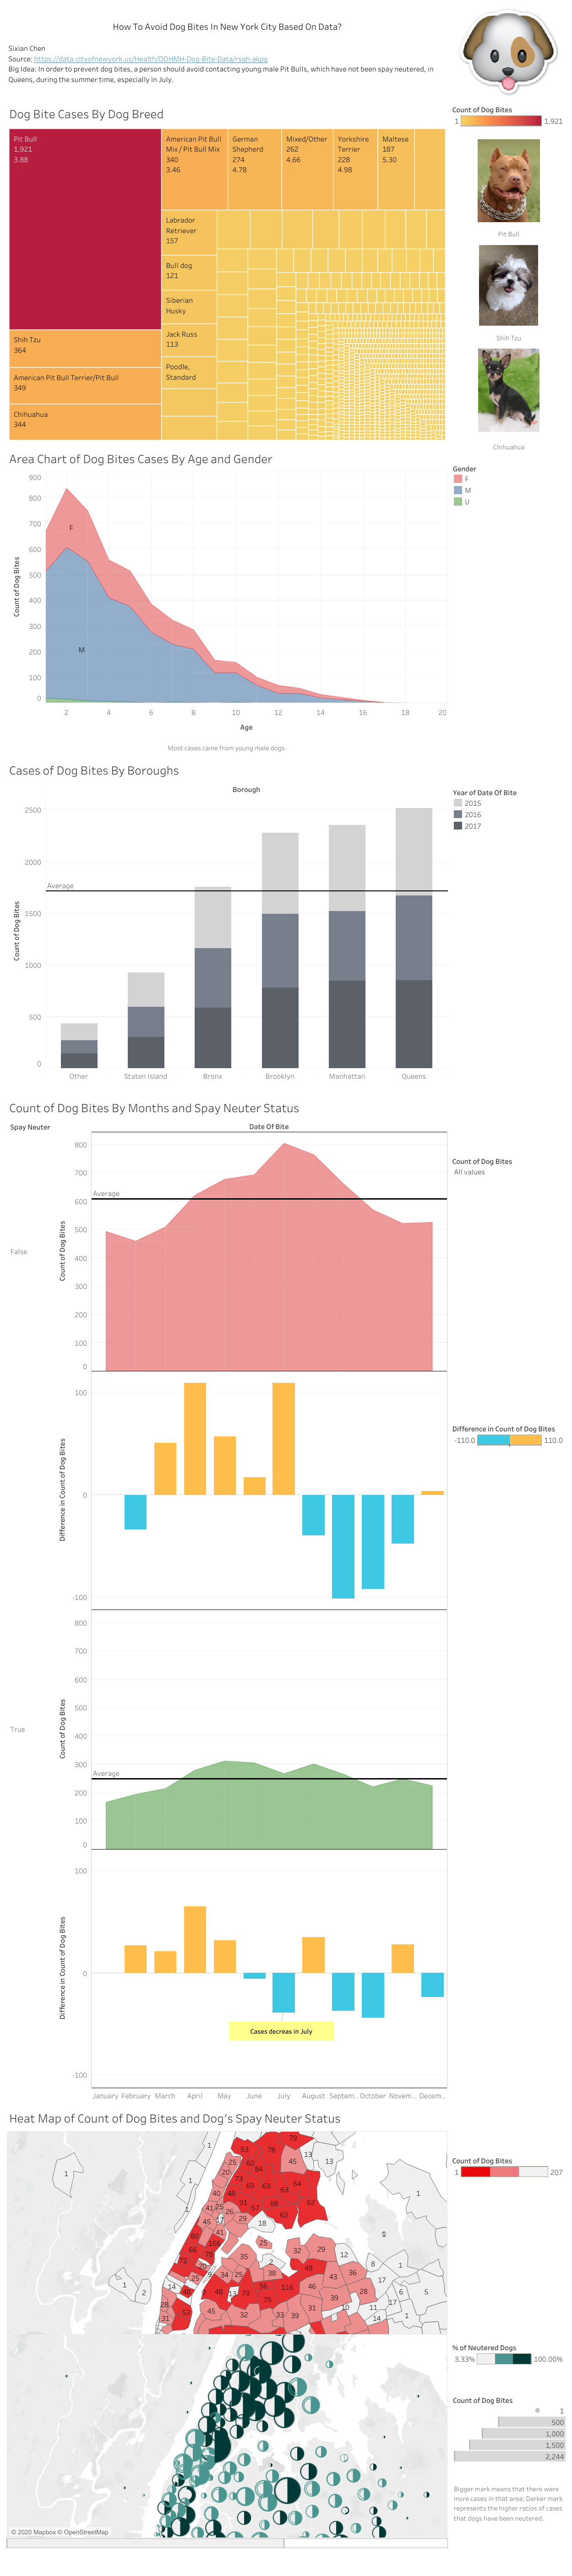

This screenshot's page, from the dashboard's own definition file:
{"tool":"tableau","page":{"name":"Dashboard 1","canvas":[1000,4500],"ordinal":0},"visuals":[{"type":"worksheet","box":[0,0,1000,4500]},{"type":"worksheet","param":"horz","box":[8,8,984,4484]},{"type":"worksheet","box":[8,8,778,4484]},{"type":"worksheet","box":[8,8,778,166]},{"type":"worksheet","box":[786,8,206,4484]},{"type":"worksheet","param":"horz","box":[786,8,206,166]},{"type":"worksheet","param":"Image/dog emoji.png","box":[786,8,206,166]},{"type":"worksheet","title":"by breed","mark":"Automatic","box":[8,174,778,603.1]},{"type":"worksheet","box":[786,174,206,4318]},{"type":"worksheet","param":"vert","box":[786,174,206,584.2]},{"type":"worksheet","title":"by breed","mark":"Automatic","param":"[federated.1ch85jl1eidxpz16zwsoy1rv2js4].[usr:Calculation_546624458479800320:qk]","box":[786,174,206,65]},{"type":"worksheet","param":"Image/pitbull.jpg","box":[786,239,206,153]},{"type":"worksheet","box":[786,392,206,32]},{"type":"worksheet","param":"Image/a29419d2792cf3c6a81c488cda9972aa.jpg","box":[786,424,206,149]},{"type":"worksheet","box":[786,573,206,32]},{"type":"worksheet","param":"Image/ChihuahuaViansBigMacAttackMac33.jpg","box":[786,605,206,153.2]},{"type":"worksheet","box":[786,758.2,206,44.7]},{"type":"worksheet","title":"by age gender","mark":"Area","rows":["Calculation_546624458479800320"],"cols":["Age"],"box":[8,777.1,778,511.9]},{"type":"worksheet","box":[786,802.9,206,3689.1]},{"type":"worksheet","param":"vert","box":[786,802.9,206,566.1]},{"type":"worksheet","title":"by age gender","mark":"Area","rows":["Calculation_546624458479800320"],"cols":["Age"],"param":"[federated.1ch85jl1eidxpz16zwsoy1rv2js4].[none:Gender:nk]","box":[786,802.9,206,146]},{"type":"worksheet","box":[786,948.9,206,196]},{"type":"worksheet","box":[8,1289,778,32]},{"type":"worksheet","title":"Case In Borough","mark":"Automatic","rows":["Calculation_546624458479800320"],"cols":["Borough"],"box":[8,1321,778,589]},{"type":"worksheet","box":[786,1369,206,3123]},{"type":"worksheet","param":"vert","box":[786,1369,206,644.6]},{"type":"worksheet","title":"Case In Borough","mark":"Automatic","rows":["Calculation_546624458479800320"],"cols":["Borough"],"param":"[federated.1ch85jl1eidxpz16zwsoy1rv2js4].[yr:DateOfBite:ok]","box":[786,1369,206,203]},{"type":"worksheet","box":[786,1572,206,321]},{"type":"worksheet","title":"Bites by months and SN","mark":"Bar","rows":["SpayNeuter","Calculation_546624458479800320","Calculation_546624458479800320"],"cols":["DateOfBite"],"box":[8,1910,778,1765]},{"type":"worksheet","title":"heat map (2)","mark":"Automatic","param":"[federated.1ch85jl1eidxpz16zwsoy1rv2js4].[usr:Calculation_546624458479800320:qk]","box":[786,2013.6,206,121.6]},{"type":"worksheet","box":[786,2135.2,206,343.1]},{"type":"worksheet","box":[786,2478.2,206,2013.8]},{"type":"worksheet","param":"vert","box":[786,2478.2,206,1277.8]},{"type":"worksheet","title":"Bites by months and SN","mark":"Bar","rows":["SpayNeuter","Calculation_546624458479800320","Calculation_546624458479800320"],"cols":["DateOfBite"],"param":"[federated.1ch85jl1eidxpz16zwsoy1rv2js4].[diff:usr:Calculation_54662445847980032","box":[786,2478.2,206,116]},{"type":"worksheet","box":[786,2594.2,206,1161.8]},{"type":"worksheet","title":"heat map (2)","mark":"Automatic","box":[8,3675,778,817]},{"type":"worksheet","param":"vert","box":[786,3756,206,736]},{"type":"worksheet","title":"heat map (2)","mark":"Automatic","param":"[federated.1ch85jl1eidxpz16zwsoy1rv2js4].[rank:usr:Calculation_54662445847980032","box":[786,3756,206,241]},{"type":"worksheet","box":[786,3997,206,86]},{"type":"worksheet","title":"heat map (2)","mark":"Automatic","param":"[federated.1ch85jl1eidxpz16zwsoy1rv2js4].[pcto:usr:Calculation_54662445847980032","box":[786,4083,206,94]},{"type":"worksheet","title":"heat map (2)","mark":"Automatic","param":"[federated.1ch85jl1eidxpz16zwsoy1rv2js4].[usr:Calculation_546624458479800320:qk]","box":[786,4177,206,157]},{"type":"worksheet","box":[786,4334,206,98]},{"type":"worksheet","box":[786,4432.1,206,59.9]}]}

Visuals, with their boxes in screenshot pixels (x1, y1, x2, y2), scaled from the page's 1000x4500 canvas onto the 572x2576 screenshot:
worksheet: left=0, top=0, right=572, bottom=2576
worksheet: left=5, top=5, right=567, bottom=2571
worksheet: left=5, top=5, right=450, bottom=2571
worksheet: left=5, top=5, right=450, bottom=99
worksheet: left=450, top=5, right=567, bottom=2571
worksheet: left=450, top=5, right=567, bottom=99
worksheet: left=450, top=5, right=567, bottom=99
"by breed" worksheet: left=5, top=99, right=450, bottom=445
worksheet: left=450, top=99, right=567, bottom=2571
worksheet: left=450, top=99, right=567, bottom=434
"by breed" worksheet: left=450, top=99, right=567, bottom=137
worksheet: left=450, top=137, right=567, bottom=224
worksheet: left=450, top=224, right=567, bottom=243
worksheet: left=450, top=243, right=567, bottom=328
worksheet: left=450, top=328, right=567, bottom=346
worksheet: left=450, top=346, right=567, bottom=434
worksheet: left=450, top=434, right=567, bottom=459
"by age gender" worksheet (Area marks): left=5, top=445, right=450, bottom=738
worksheet: left=450, top=459, right=567, bottom=2571
worksheet: left=450, top=459, right=567, bottom=784
"by age gender" worksheet (Area marks): left=450, top=459, right=567, bottom=543
worksheet: left=450, top=543, right=567, bottom=655
worksheet: left=5, top=738, right=450, bottom=756
"Case In Borough" worksheet: left=5, top=756, right=450, bottom=1093
worksheet: left=450, top=784, right=567, bottom=2571
worksheet: left=450, top=784, right=567, bottom=1153
"Case In Borough" worksheet: left=450, top=784, right=567, bottom=900
worksheet: left=450, top=900, right=567, bottom=1084
"Bites by months and SN" worksheet (Bar marks): left=5, top=1093, right=450, bottom=2104
"heat map (2)" worksheet: left=450, top=1153, right=567, bottom=1223
worksheet: left=450, top=1223, right=567, bottom=1419
worksheet: left=450, top=1419, right=567, bottom=2571
worksheet: left=450, top=1419, right=567, bottom=2150
"Bites by months and SN" worksheet (Bar marks): left=450, top=1419, right=567, bottom=1485
worksheet: left=450, top=1485, right=567, bottom=2150
"heat map (2)" worksheet: left=5, top=2104, right=450, bottom=2571
worksheet: left=450, top=2150, right=567, bottom=2571
"heat map (2)" worksheet: left=450, top=2150, right=567, bottom=2288
worksheet: left=450, top=2288, right=567, bottom=2337
"heat map (2)" worksheet: left=450, top=2337, right=567, bottom=2391
"heat map (2)" worksheet: left=450, top=2391, right=567, bottom=2481
worksheet: left=450, top=2481, right=567, bottom=2537
worksheet: left=450, top=2537, right=567, bottom=2571
